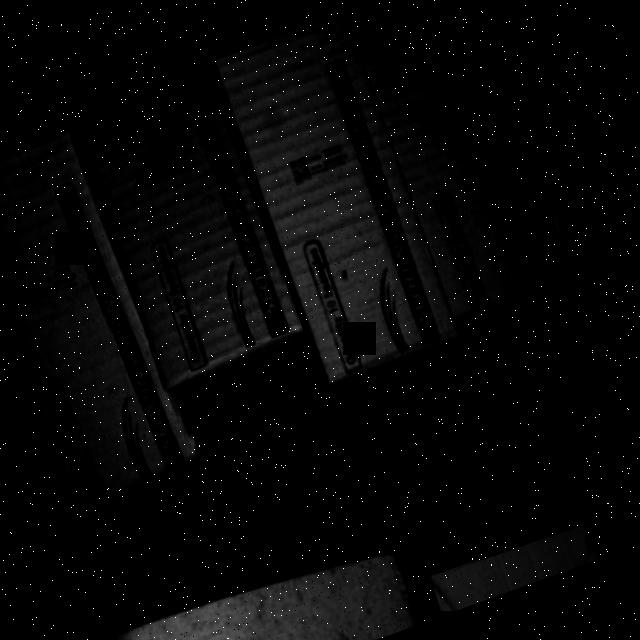box: (210, 9, 466, 392), (66, 36, 304, 380), (0, 135, 210, 523), (339, 0, 579, 316)
